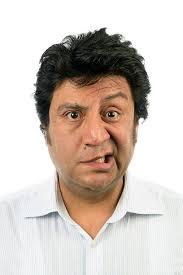strokeEyeMid: (58, 91, 129, 130)
strokeMouthSevere: (75, 149, 121, 175)
